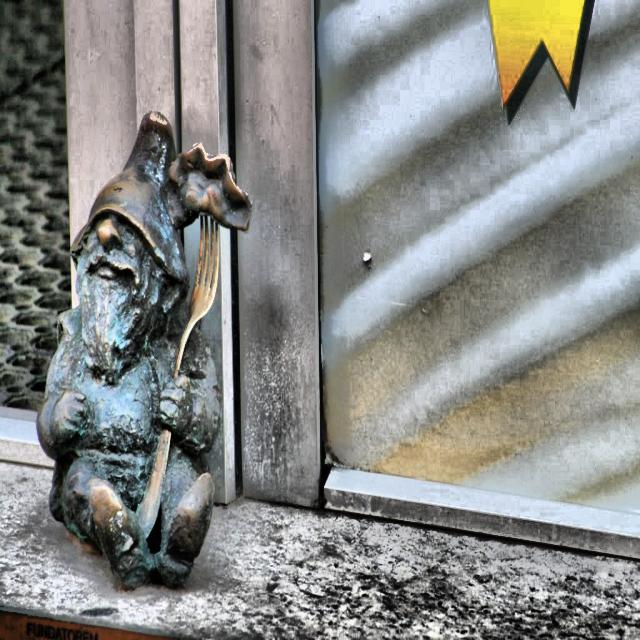Pieroznik: (36, 112, 253, 592)
